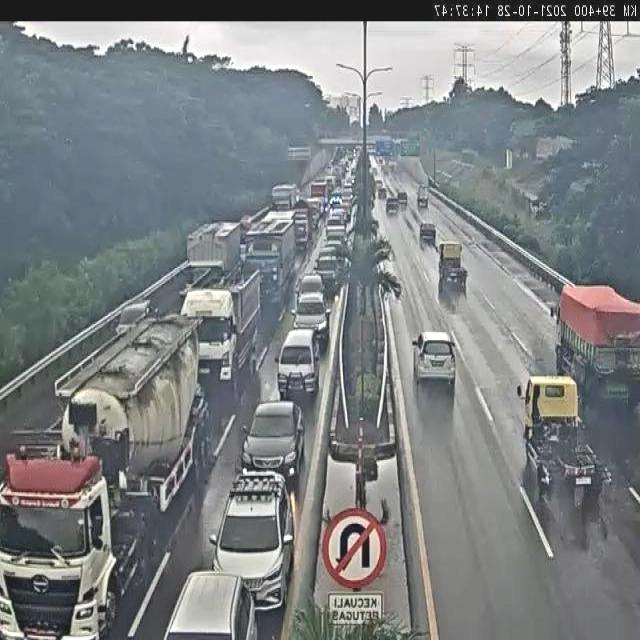Car: (207, 468, 297, 614), (159, 567, 263, 640), (240, 400, 308, 480), (412, 330, 458, 384), (290, 294, 331, 344), (418, 223, 438, 240), (385, 197, 400, 214)
Truck: (0, 308, 211, 640), (515, 374, 616, 514), (170, 263, 266, 400), (548, 284, 640, 408), (239, 218, 296, 316), (436, 241, 468, 292)
Van: (273, 328, 322, 397)
